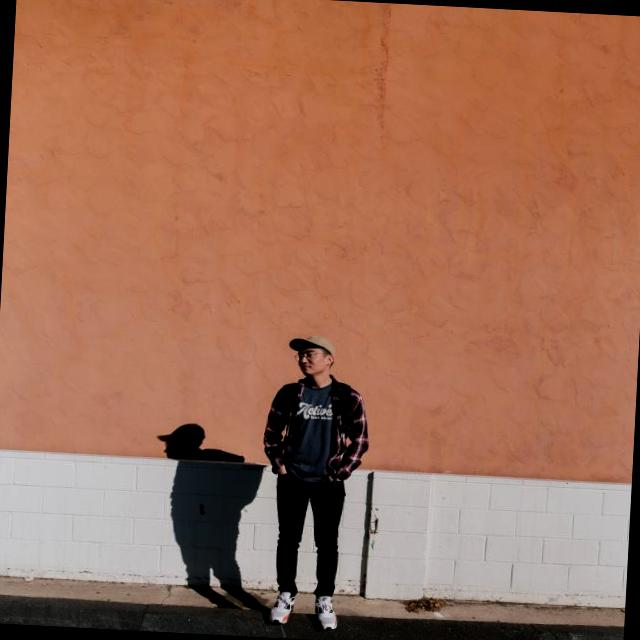person: (253, 332, 374, 632)
